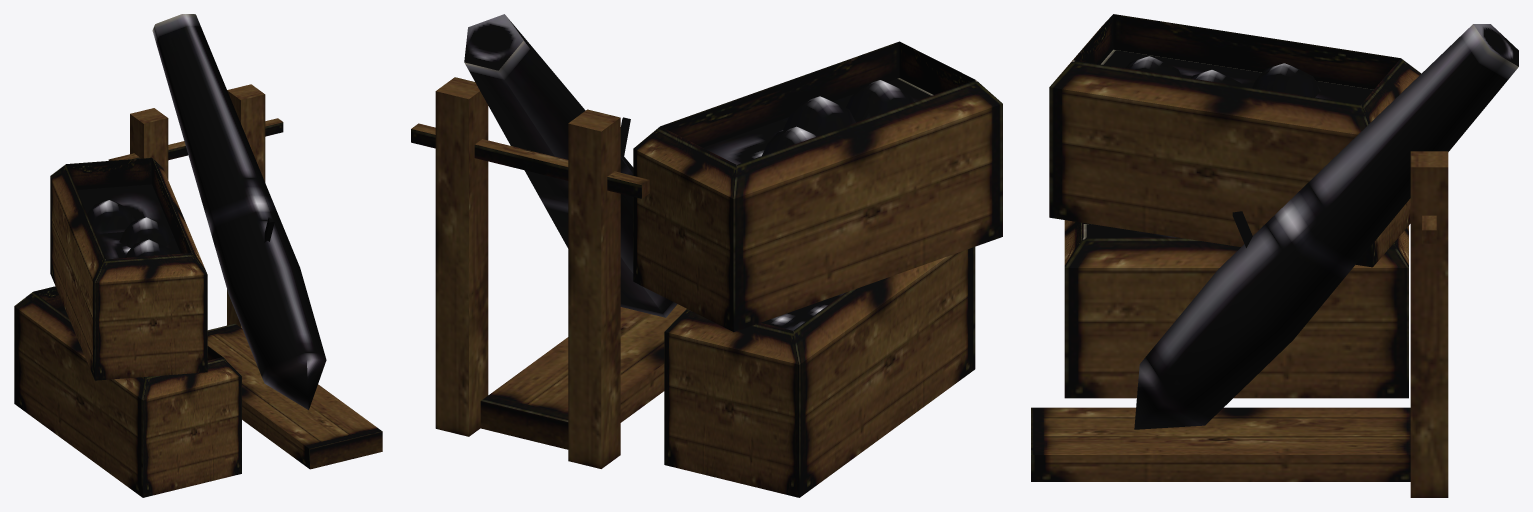
The model's file is Cannon01.obj.
3 views of the same model, side by side, from view 1: azimuth 30°, elevation 25°; view 2: azimuth 150°, elevation 25°; view 3: azimuth 270°, elevation 25° (orthographic). The views are drawn at different scales.
Visible parts, largest first — view 1: Mesh_0; view 2: Mesh_0; view 3: Mesh_0.
Boxes of the visible parts, x1=… form: Mesh_0: x1=14, y1=14, x2=382, y2=497; Mesh_0: x1=411, y1=14, x2=1002, y2=497; Mesh_0: x1=1031, y1=14, x2=1518, y2=497.
Bounding box in the file's own units: 1.32 × 1.33 × 1.36.
1 material, 1 textured.
